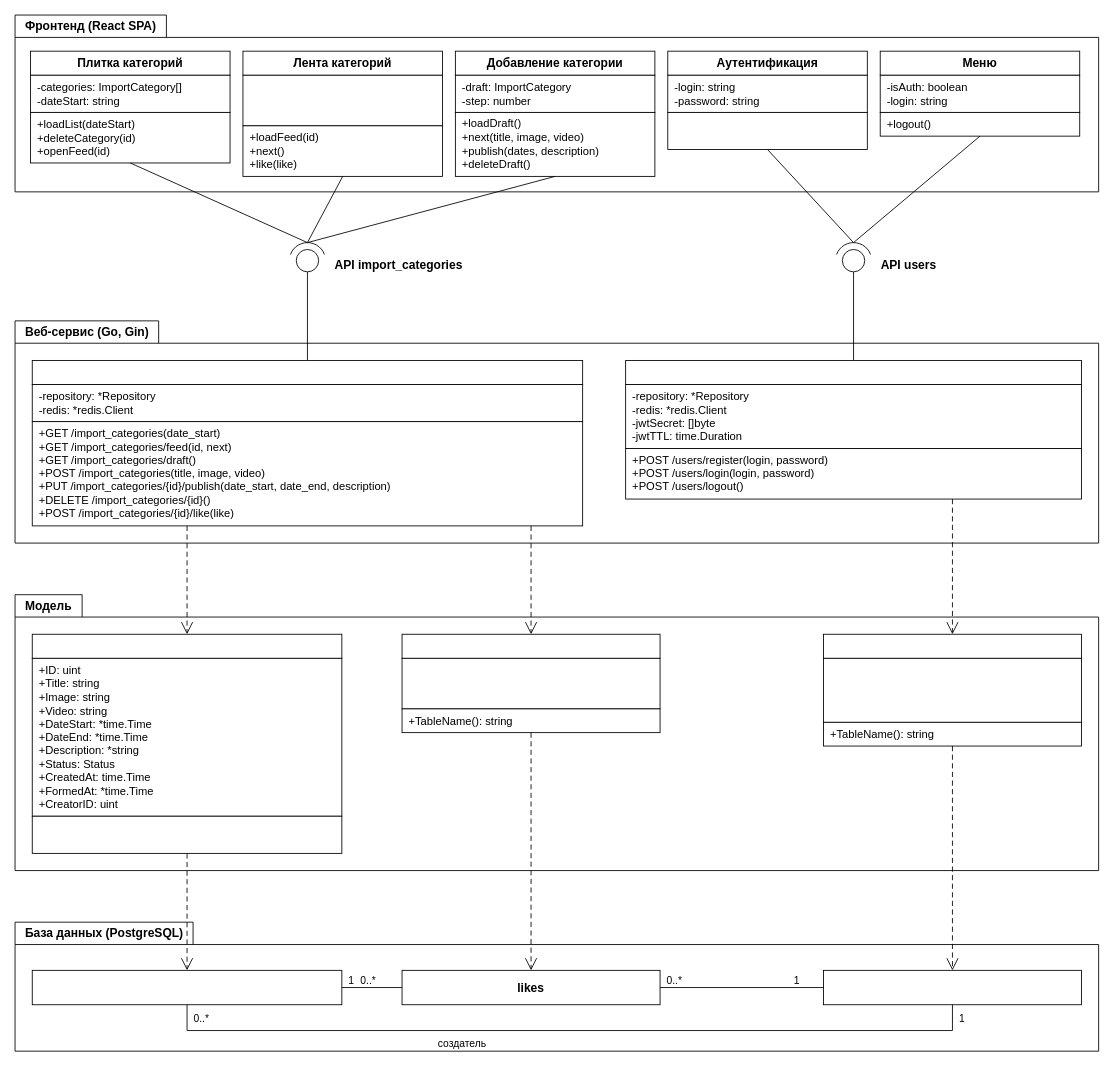
Image size: 1114x1066. Some labels were removed from this diagram. Here are the shapes that lost their labels. From the top down, the centre of each, then its label:
At point (342, 100): "-category: ImportCategory -position: number -total: number".
At point (767, 131): "+signIn() +signUp()".
At point (307, 372): "Домен import_categories".
At point (853, 372): "Домен users".
At point (186, 645): "ImportCategory".
At point (530, 645): "Like".
At point (952, 645): "User".
At point (530, 683): "+ID: uint +UserID: uint +ImportCategoryID: uint".
At point (952, 689): "+ID: uint +Login: string +Password: string +IsModerator: bool".
At point (186, 834): "+PeriodLabel(): *string +TableName(): string".
At point (186, 987): "import_categories".
At point (952, 987): "users".
